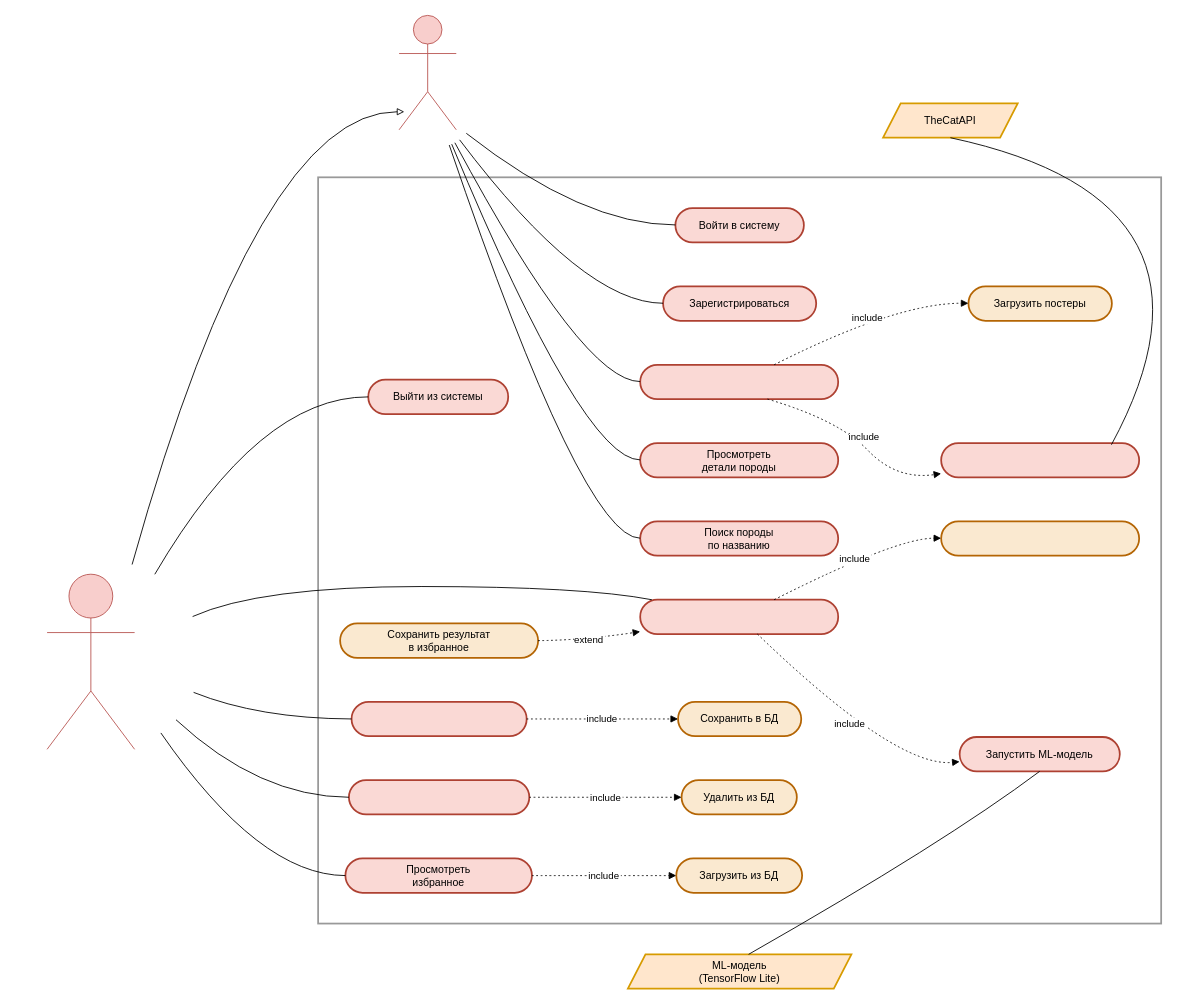
Some shapes in this 1177 by 1005 pixel diagram are drawn without their labels. Here are the shapes that lost their labels. From the top down, the box of each, then its label:
(398, 15, 456, 130): Гость
(639, 363, 839, 400): Просмотреть список пород
(940, 442, 1140, 478): Получить данные от TheCatAPI
(940, 520, 1140, 556): Загрузить фото из галереи
(639, 598, 839, 634): Распознать породу по фото
(46, 573, 135, 749): Авторизованный пользователь
(350, 700, 527, 737): Добавить в избранное
(348, 779, 530, 815): Удалить из избранного
